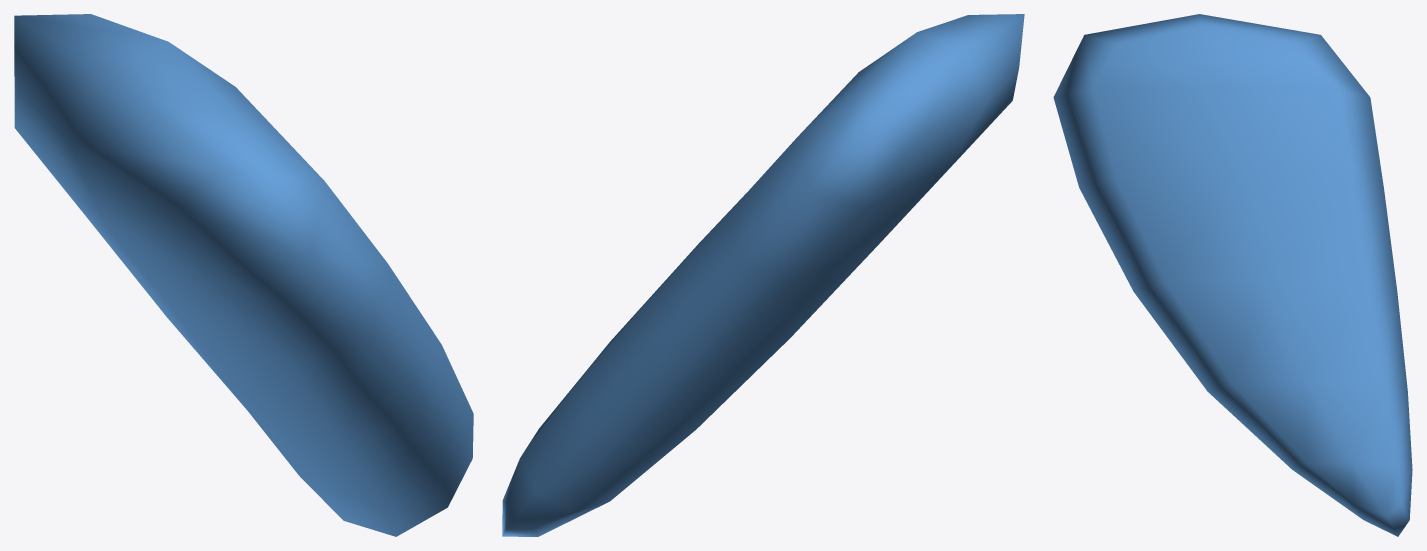
The model's file is SharkChara_LeftHand.fbx.
3 renders of one model, left to right at view 1: azimuth 30°, elevation 25°; view 2: azimuth 150°, elevation 25°; view 3: azimuth 270°, elevation 25°, orthographic. The views are drawn at different scales.
Visible parts, largest first — view 1: polySurface67; view 2: polySurface67; view 3: polySurface67.
Part boxes in pixels (left/top/right/bottom): polySurface67: left=14, top=14, right=473, bottom=536; polySurface67: left=502, top=14, right=1024, bottom=536; polySurface67: left=1053, top=14, right=1412, bottom=536.
Bounding box in the file's own units: 9.03 × 11.38 × 9.39.
